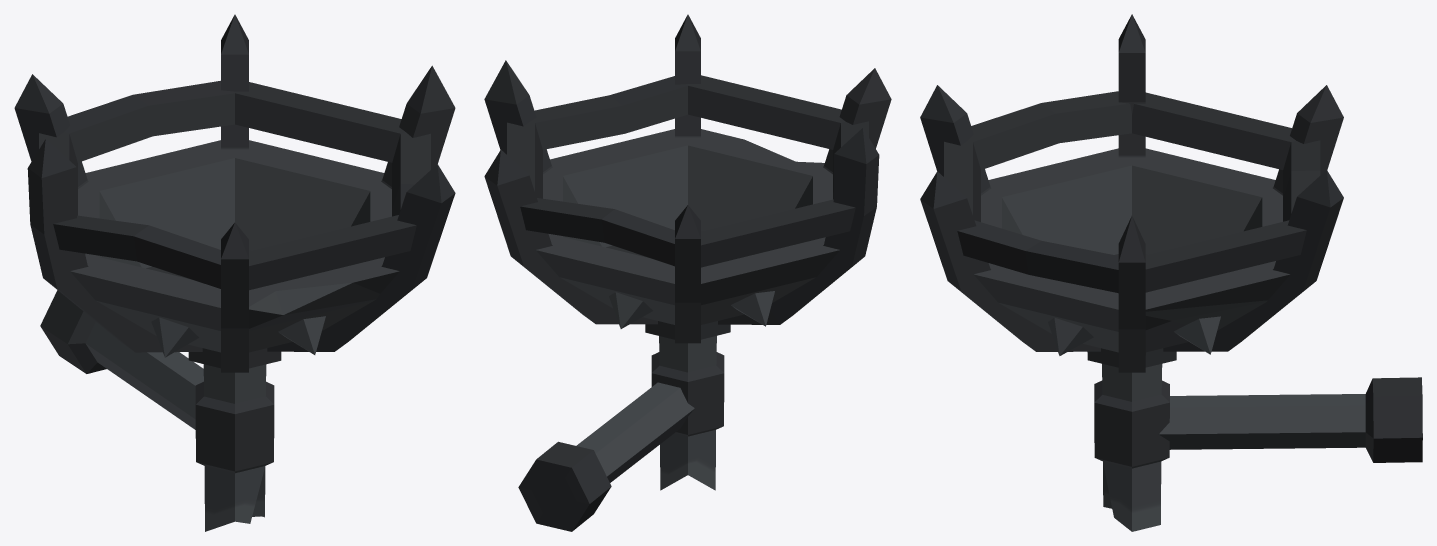
The model's file is torch_wall.gltf.
3 renders of one model, left to right at view 1: azimuth 30°, elevation 25°; view 2: azimuth 150°, elevation 25°; view 3: azimuth 270°, elevation 25°, orthographic. The views are drawn at different scales.
Visible parts, largest first — view 1: torch_wall; view 2: torch_wall; view 3: torch_wall.
Part boxes in pixels (x1,y1,x2,y2): torch_wall: (14, 14, 455, 531); torch_wall: (484, 14, 891, 531); torch_wall: (920, 14, 1422, 531).
Size of the model in its own units: 0.6004 by 0.599 by 0.6574.
1 material, 1 textured.
